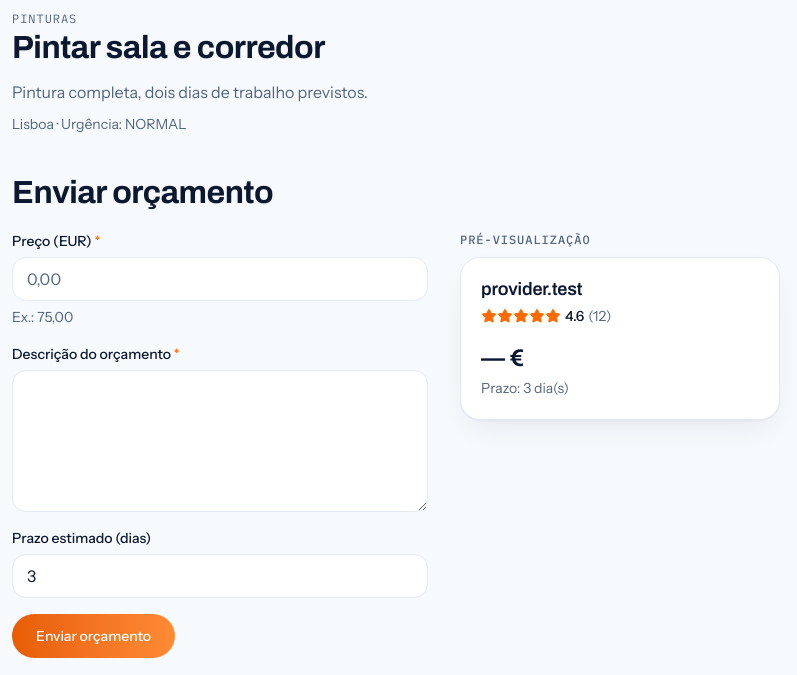
Test: ProviderRequestDetailPage — formulário de orçamento › com subscrição ativa, envia o orçamento com sucesso
Type "90,00" into the field labelled "Preço (EUR) *" at {"x": 220, "y": 279}, box [12,257,428,301]
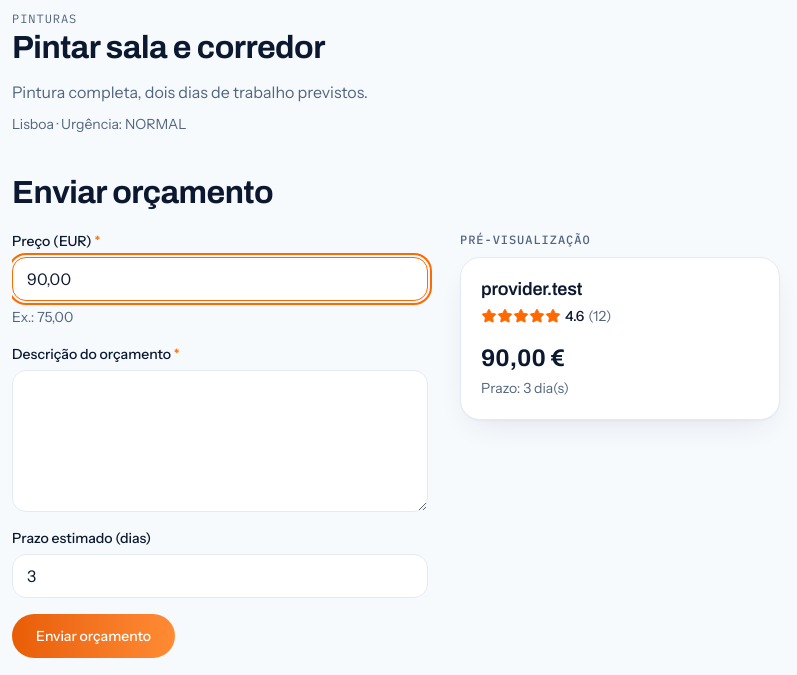
Type "Pintura completa, dois dias de trabalho." into the text box labelled "Descrição do orçamento *" at {"x": 220, "y": 441}, box [12,370,428,512]
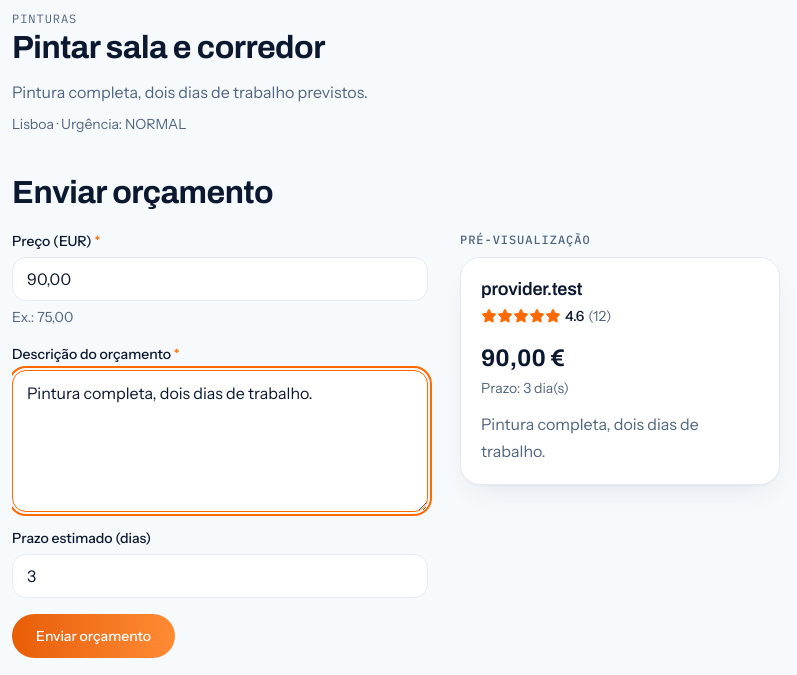
Click the button "Enviar orçamento" at {"x": 94, "y": 636}, box [12,614,175,658]
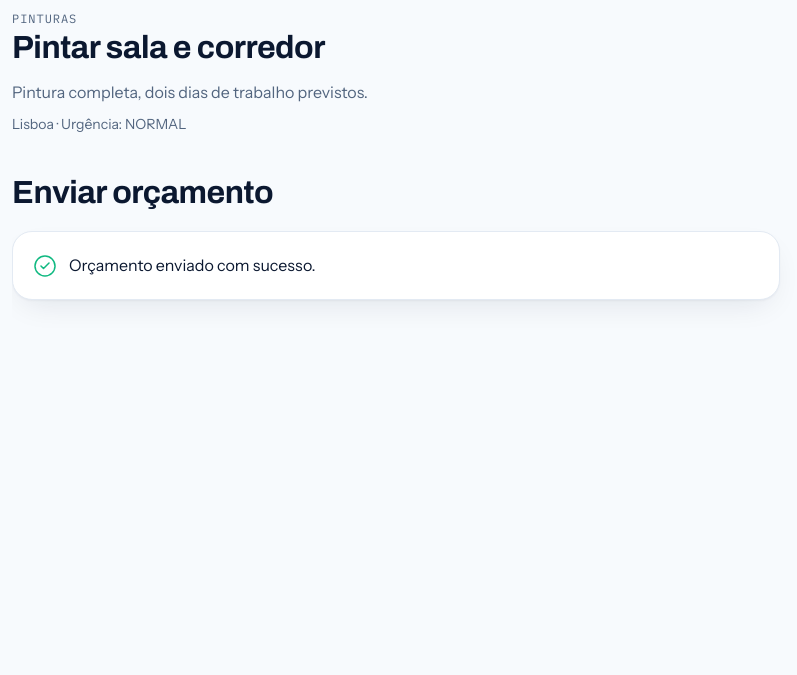
Now the text "Orçamento enviado com sucesso." is shown, box [69,252,316,279]
